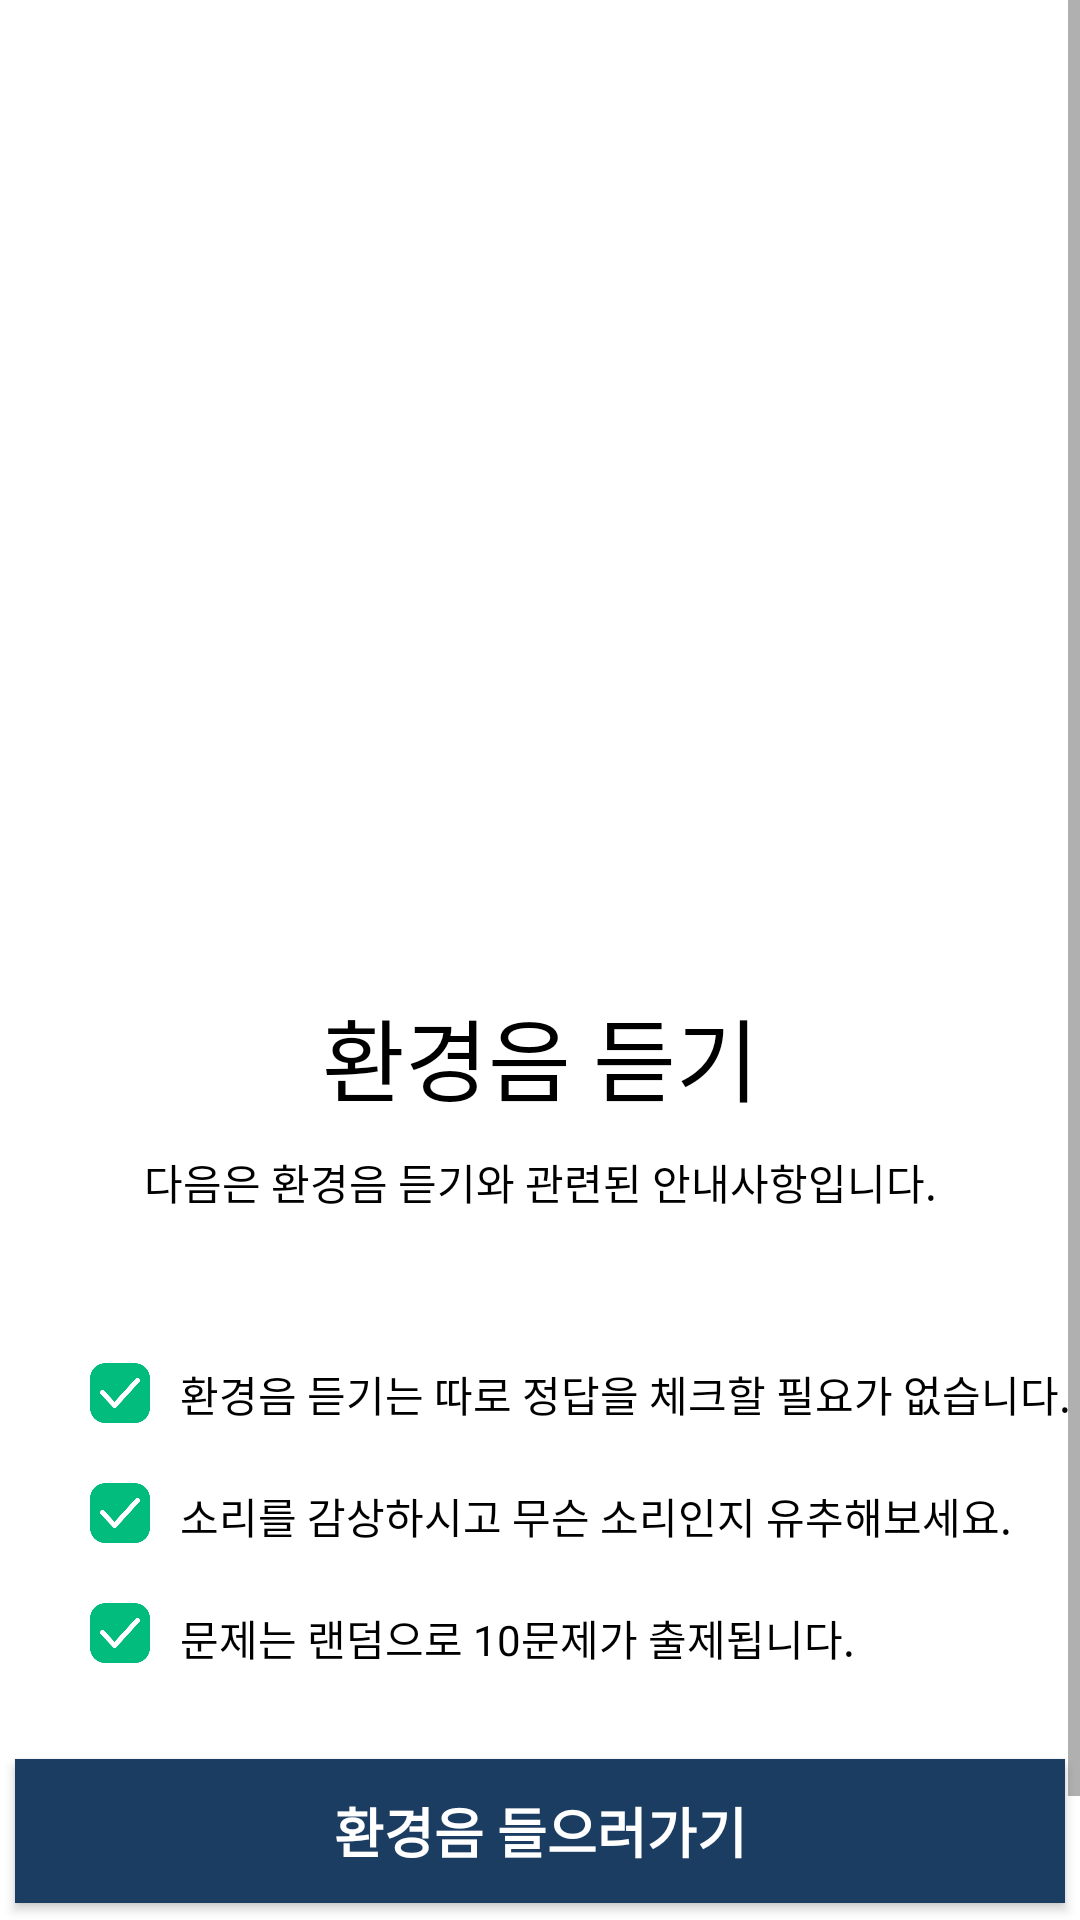

Locate icon controls on the screen. Image size 1080 x 1920, boxes as (x1,y1,x2,y2).
check: (90,1363,150,1423), (90,1483,150,1543), (90,1603,150,1663)
